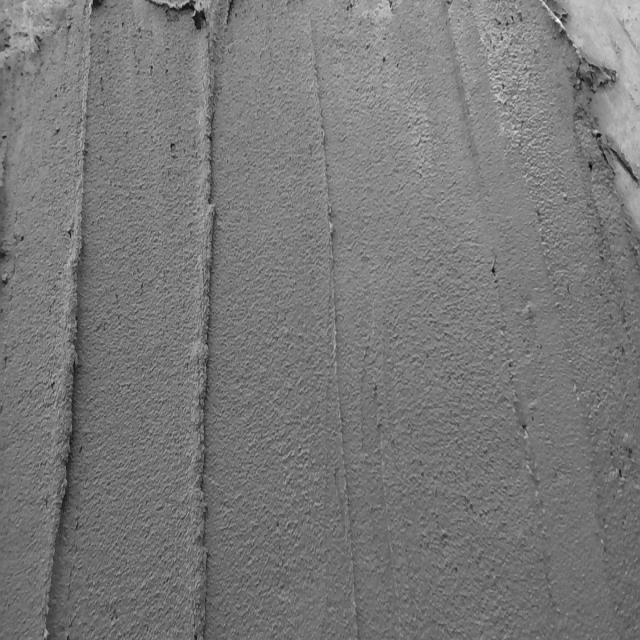trowels marks: (38, 7, 95, 638), (309, 34, 361, 640), (184, 0, 217, 635)
